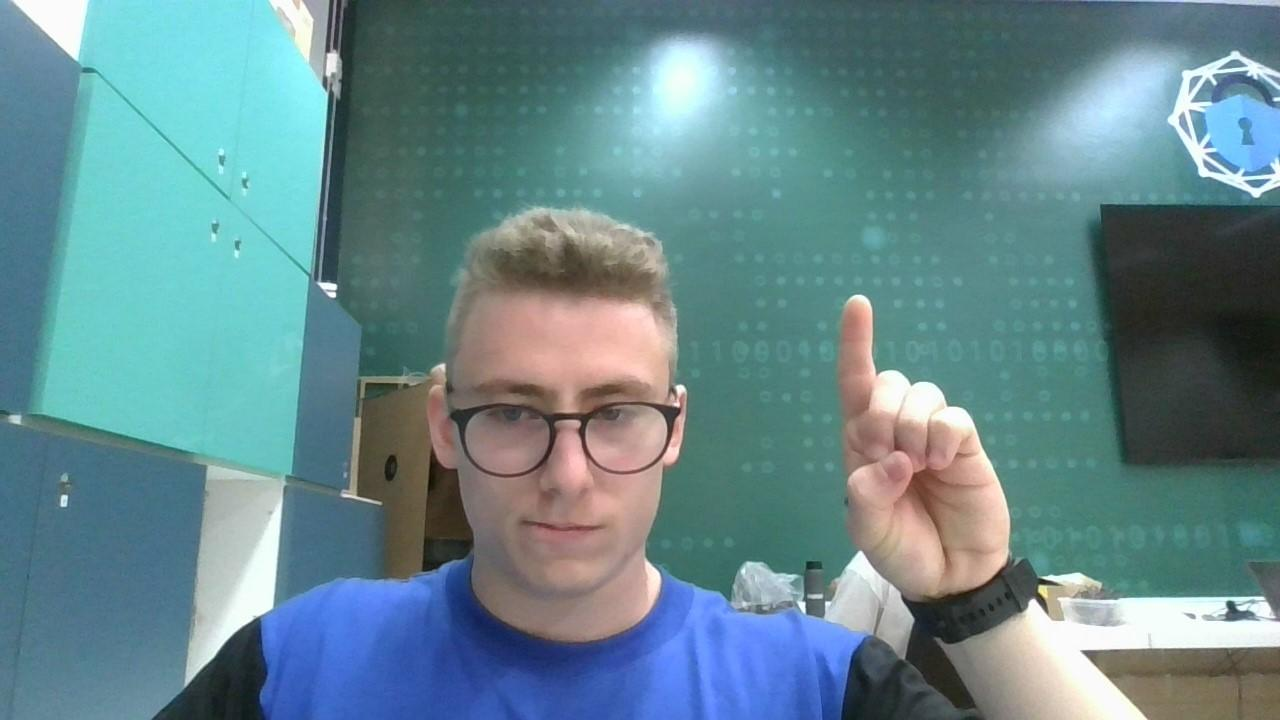D2: (830, 286, 1020, 592)
